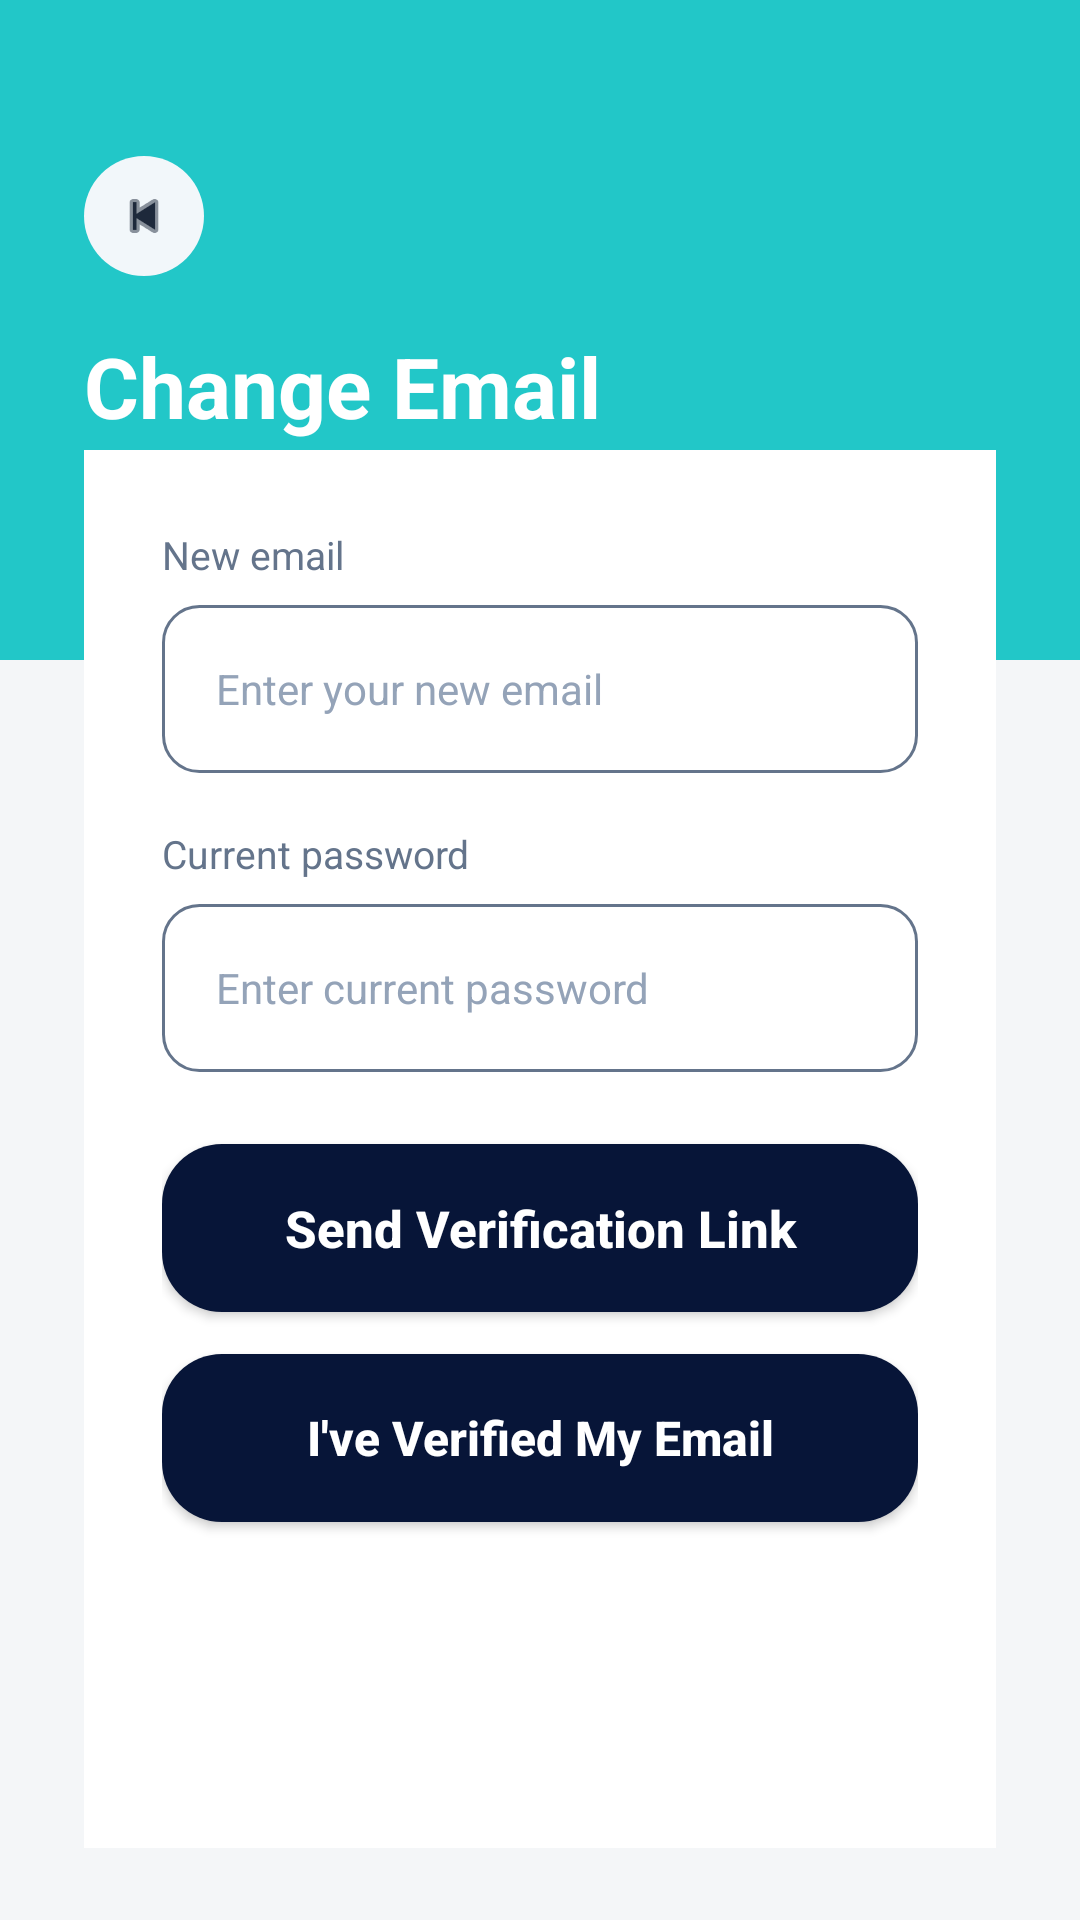

Icon click points for this 1080 × 1920 phone screenshot, format point (x, y):
Back: point (144, 216)
